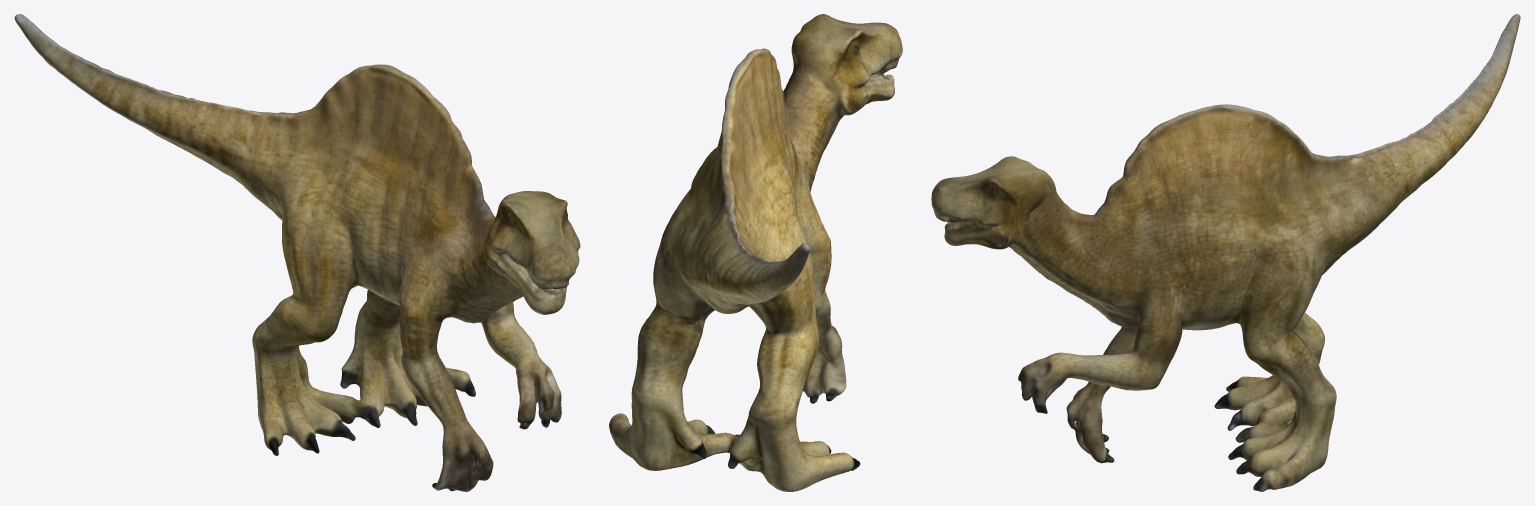
The model's file is Schleich_Spinosaurus_Action_Figure.glb.
3 renders of one model, left to right at view 1: azimuth 30°, elevation 25°; view 2: azimuth 150°, elevation 25°; view 3: azimuth 270°, elevation 25°, orthographic. The views are drawn at different scales.
Visible parts, largest first — view 1: geometry_0; view 2: geometry_0; view 3: geometry_0.
Boxes of the visible parts, left/top/right/bottom form: geometry_0: left=14, top=14, right=580, bottom=491; geometry_0: left=609, top=14, right=902, bottom=491; geometry_0: left=931, top=14, right=1520, bottom=491.
Size of the model in its own units: 0.5923 by 0.6567 by 1.
1 material, 1 textured.
